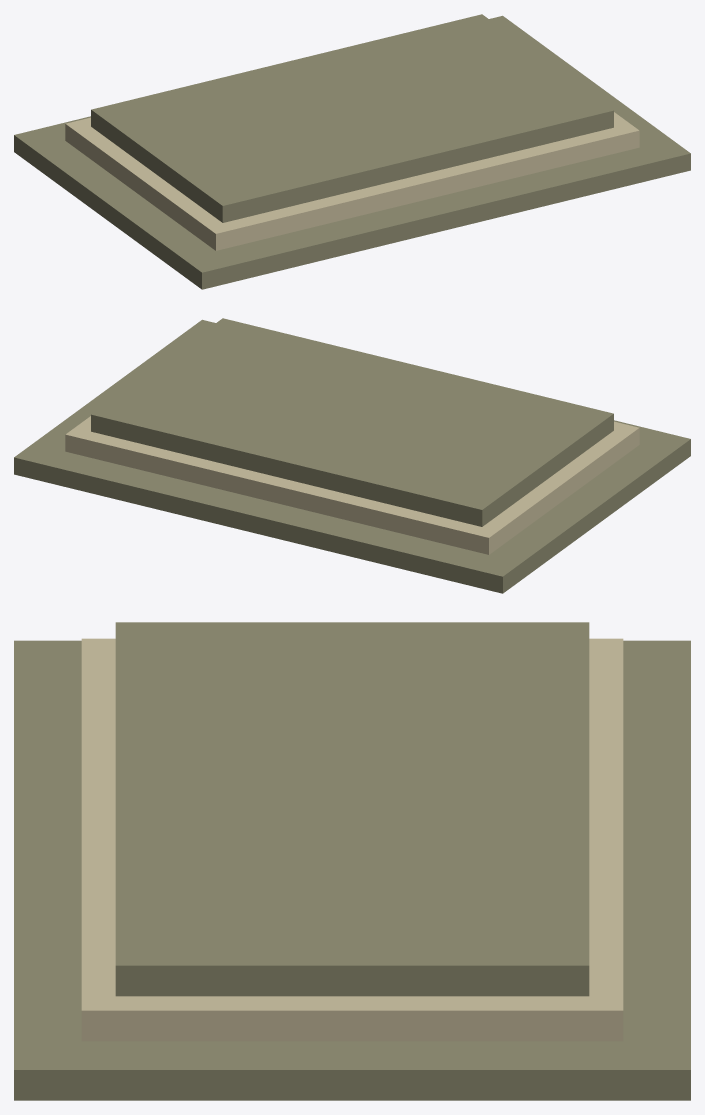
Rendered from fitness-03.glb.
3 renders of one model, top to bottom at view 1: azimuth 30°, elevation 25°; view 2: azimuth 150°, elevation 25°; view 3: azimuth 270°, elevation 25°, orthographic. The views are drawn at different scales.
Parts seen in each view (by area): view 1: Yoga mat; view 2: Yoga mat; view 3: Yoga mat.
Boxes of the visible parts, box(x1,y1,x2,y2) form: Yoga mat: box(14, 14, 690, 289); Yoga mat: box(14, 318, 690, 593); Yoga mat: box(14, 622, 690, 1100).
Size of the model in its own units: 2.4 by 0.24 by 1.6.
